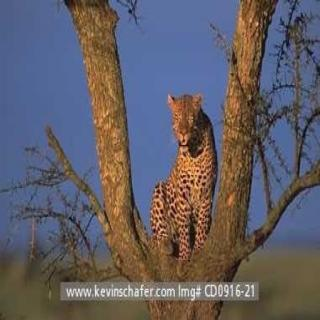Leopard: (126, 90, 246, 288)
